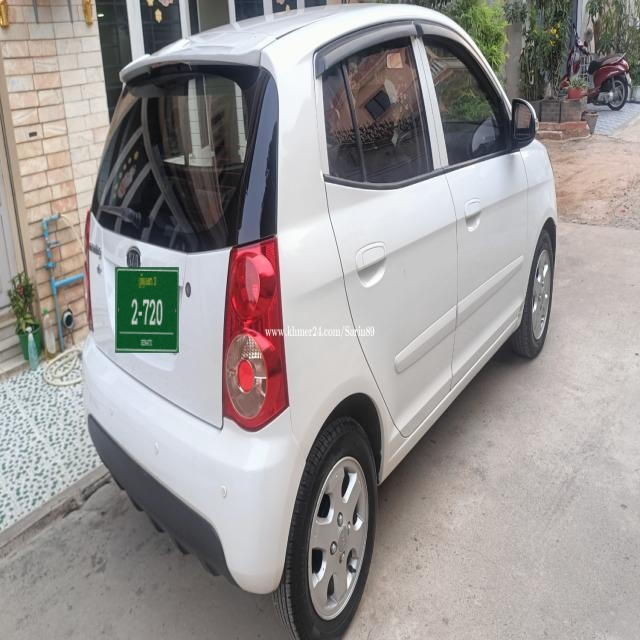Plate Number: (115, 268, 180, 353)
